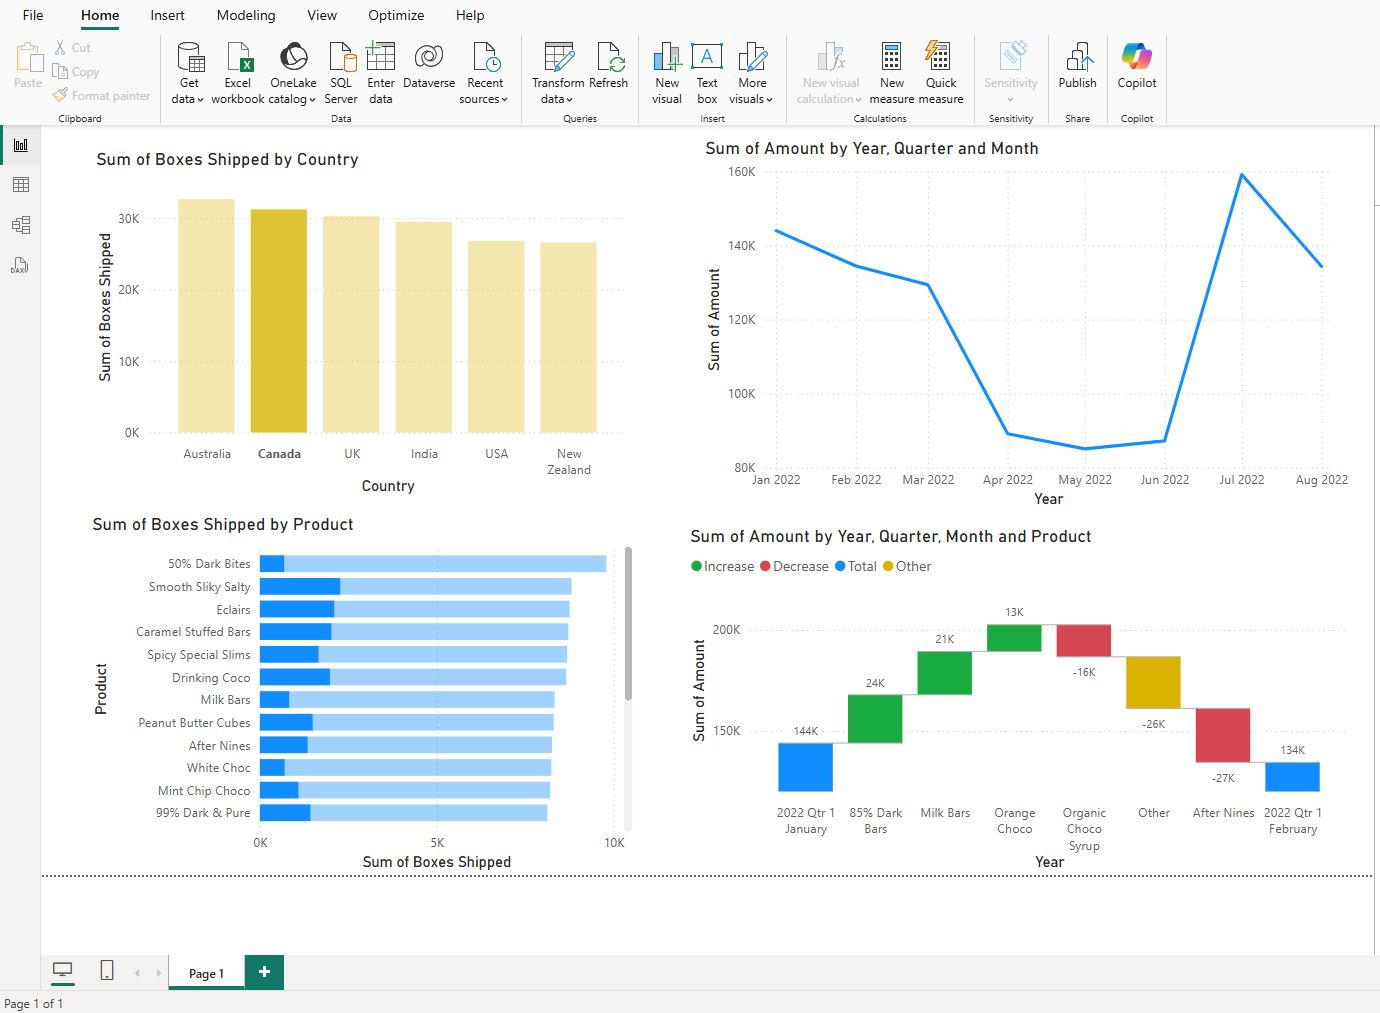

What the dashboard file says about the page in this screenshot:
{"tool":"powerbi","page":{"name":"Page 1","canvas":[1280,720],"ordinal":0},"visuals":[{"type":"clusteredColumnChart","fields":{"Category":["data.Country"],"Y":["Sum(data.Boxes Shipped)"]},"box":[47.6,22.4,520,337.3],"z":0},{"type":"clusteredBarChart","fields":{"Y":["Sum(data.Boxes Shipped)"],"Category":["data.Product"]},"box":[43.7,372.2,528.7,347.9],"z":1000},{"type":"lineChart","fields":{"Y":["Sum(data.Amount)"],"Category":["data.Date.Variation.Date Hierarchy.Year","data.Date.Variation.Date Hierarchy.Quarter","data.Date.Variation.Date Hierarchy.Month","data.Date.Variation.Date Hierarchy.Day"]},"box":[632.7,11.7,627.9,360.6],"z":2000},{"type":"waterfallChart","fields":{"Category":["data.Date.Variation.Date Hierarchy.Year","data.Date.Variation.Date Hierarchy.Quarter","data.Date.Variation.Date Hierarchy.Month"],"Breakdown":["data.Product"],"Y":["Sum(data.Amount)"]},"box":[618.1,383.9,642.4,336.3],"z":2001}]}

Visuals, with their boxes on the page's 1280x720 design canvas (x1, y1, x2, y2). These are canvas units, not pixel positions in the 1380x1013 screenshot, which may show the page scaled, cropped or inside an application window:
clusteredColumnChart - data.Country x Sum(data.Boxes Shipped): 48:22:568:360
clusteredBarChart - Sum(data.Boxes Shipped) x data.Product: 44:372:572:720
lineChart - Sum(data.Amount) x data.Date.Variation.Date Hierarchy.Year: 633:12:1261:372
waterfallChart - data.Date.Variation.Date Hierarchy.Year x data.Date.Variation.Date Hierarchy.Quarter: 618:384:1260:720
